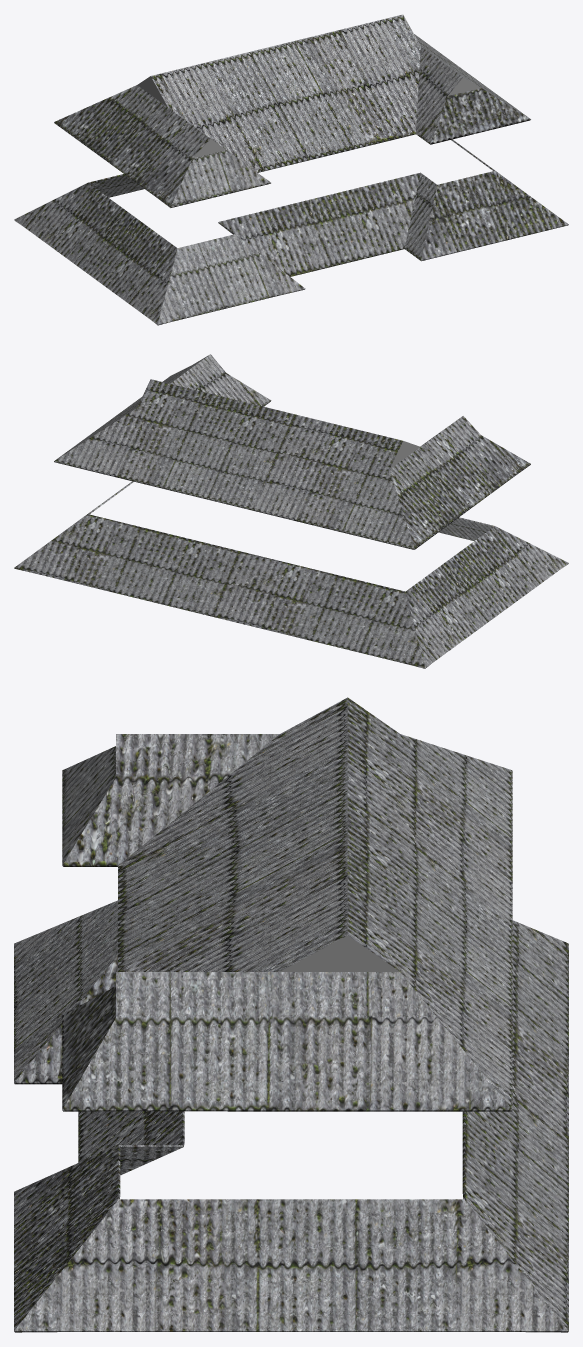
The model's file is qingliangting-roof.gltf.
3 renders of one model, top to bottom at view 1: azimuth 30°, elevation 25°; view 2: azimuth 150°, elevation 25°; view 3: azimuth 270°, elevation 25°, orthographic. The views are drawn at different scales.
Parts seen in each view (by area): view 1: Cube.176; view 2: Cube.176; view 3: Cube.176.
Part boxes in pixels (<box>): Cube.176: <box>14,14,568,325</box>; Cube.176: <box>14,354,568,668</box>; Cube.176: <box>14,697,568,1332</box>.
Bounding box in the file's own units: 11.4 × 4.43 × 6.9.
Materials: 2 (1 with a texture image).
